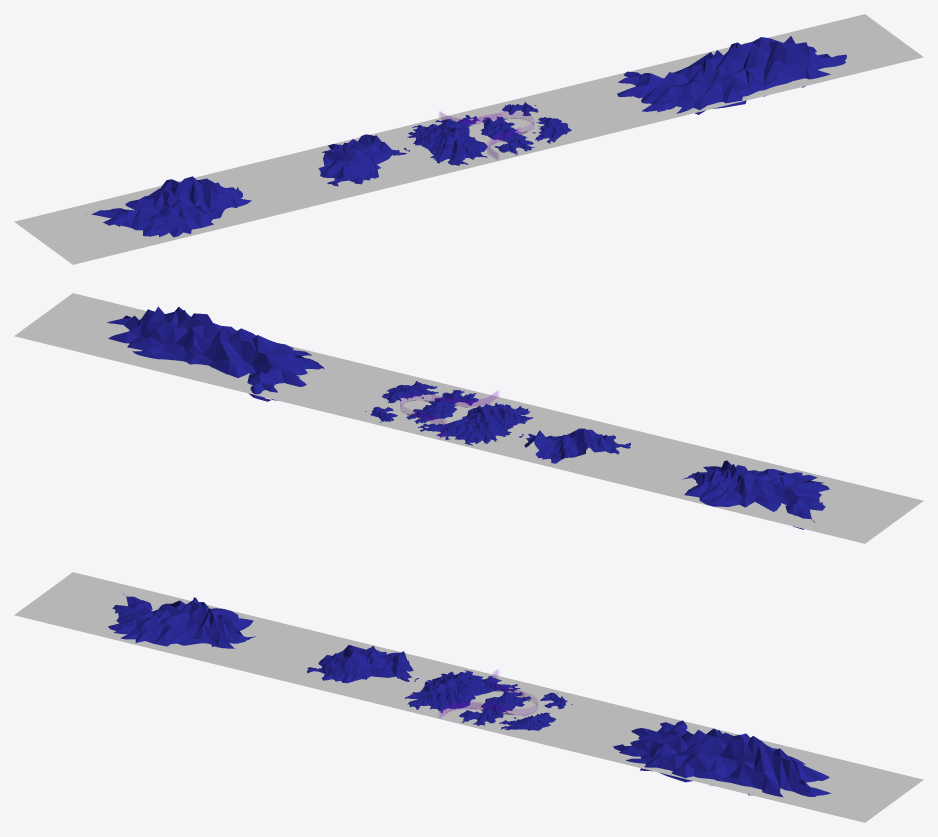
The model's file is Rock_2.FBX.
3 renders of one model, top to bottom at view 1: azimuth 30°, elevation 25°; view 2: azimuth 150°, elevation 25°; view 3: azimuth 330°, elevation 25°, orthographic.
Parts seen in each view (by area): view 1: Plane029, Object002; view 2: Plane029, Object002; view 3: Plane029, Object002.
Part boxes in pixels (bbox=[...]): Plane029: bbox=[14, 14, 923, 264]; Object002: bbox=[85, 36, 846, 237]; Plane029: bbox=[14, 293, 923, 543]; Object002: bbox=[107, 306, 829, 529]; Plane029: bbox=[14, 572, 923, 822]; Object002: bbox=[108, 593, 831, 797].
Size of the model in its own units: 20000 by 2456 by 947.
